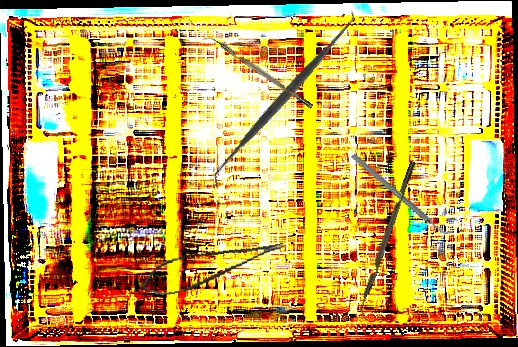Chopper: (350, 130, 454, 259), (354, 160, 423, 321), (201, 30, 314, 115)
Micro Scissor: (137, 237, 290, 301)
Spatula Surgical: (200, 8, 367, 189)
